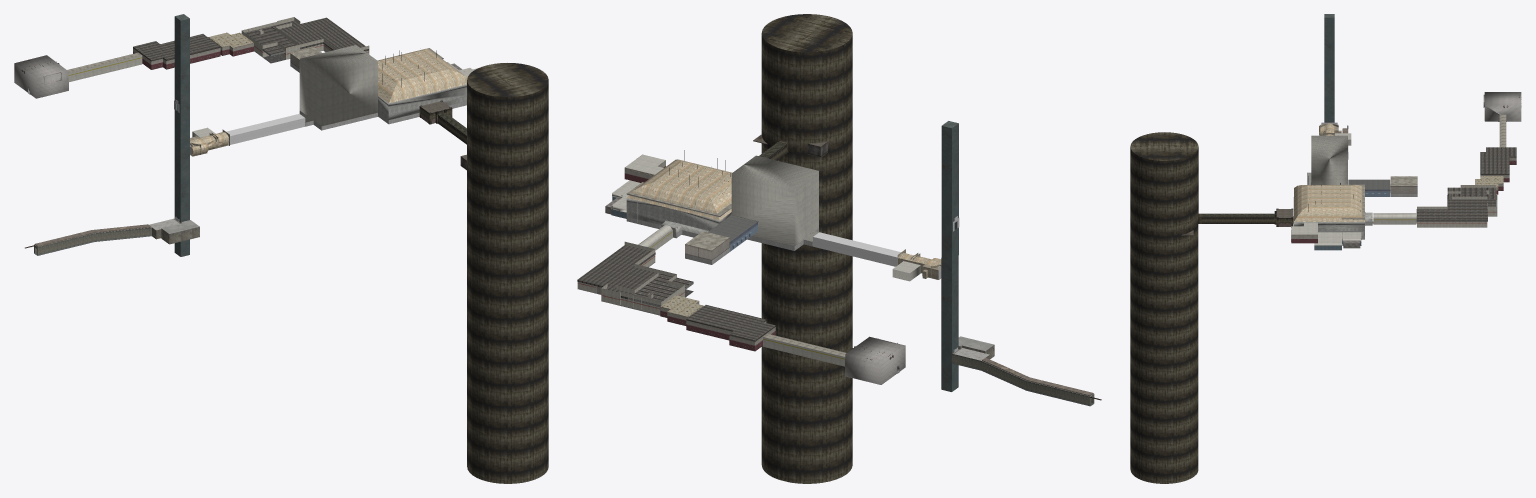
The model's file is map_mobius1 (3).glb.
The picture shows the model from 3 angles, left to right: view 1: azimuth 30°, elevation 25°; view 2: azimuth 150°, elevation 25°; view 3: azimuth 270°, elevation 25°; orthographic projection. The views are drawn at different scales.
Visible parts, largest first — view 1: Sector01, TheShaft; view 2: Sector01, TheShaft; view 3: Sector01, TheShaft.
Boxes of the visible parts, box(x1,y1,x2,y2) form: Sector01: box(14, 17, 548, 483); TheShaft: box(174, 14, 189, 138); Sector01: box(577, 14, 1101, 483); TheShaft: box(941, 121, 959, 260); Sector01: box(1130, 92, 1521, 483); TheShaft: box(1324, 14, 1334, 116).
Size of what is drawn, in the model's own units: 187 by 173 by 170.
Materials: 97 (96 with a texture image).
